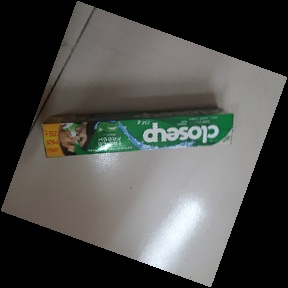CloseUp Xanh: (39, 105, 235, 161)
